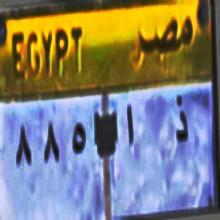5: (69, 117, 88, 172)
8: (14, 122, 34, 176), (42, 124, 60, 174)
alif: (122, 100, 138, 162)
zaal: (172, 93, 190, 153)
